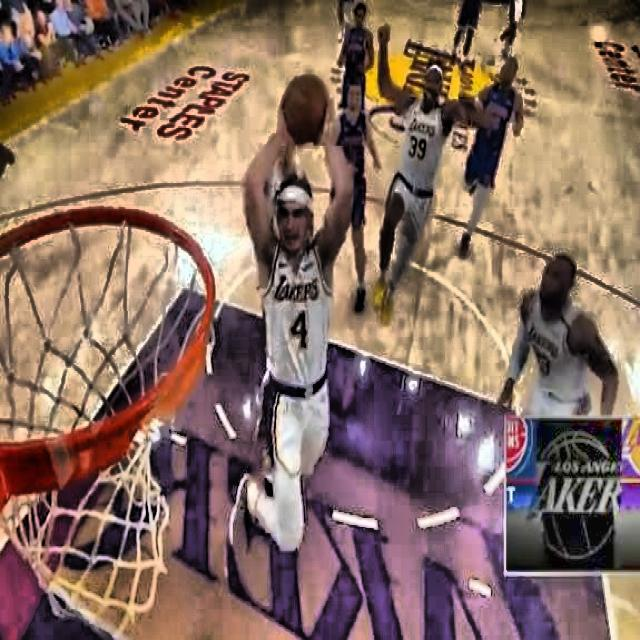rim: (1, 203, 215, 618)
